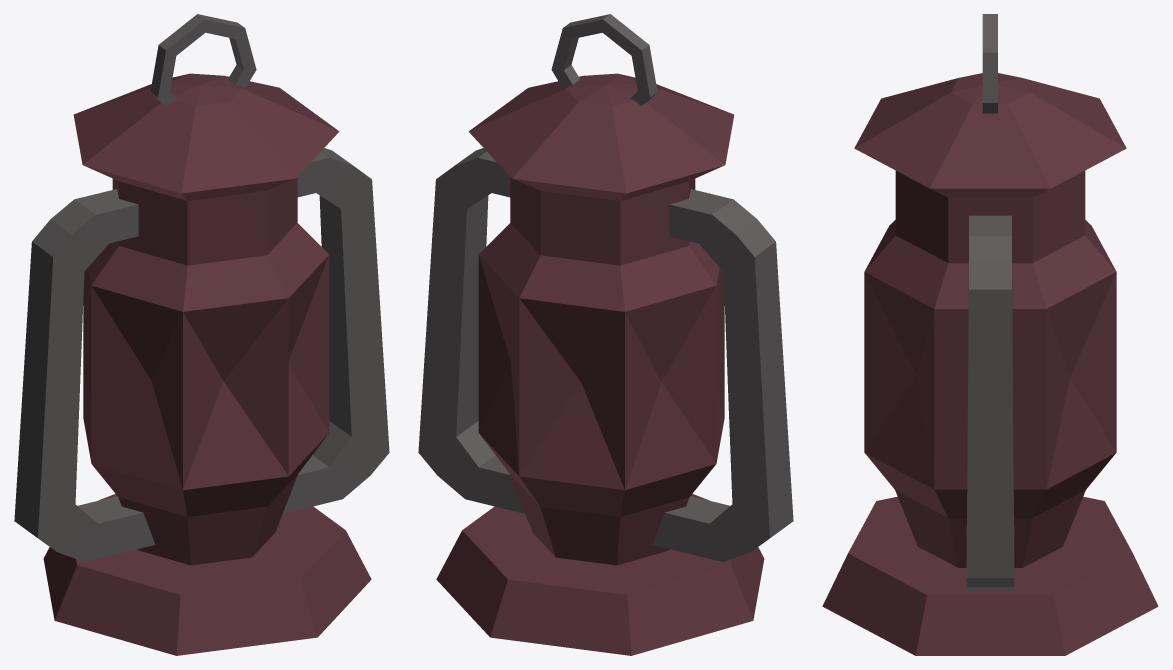
Rendered from lantern-camp.fbx.
3 views of the same model, side by side, from view 1: azimuth 30°, elevation 25°; view 2: azimuth 150°, elevation 25°; view 3: azimuth 270°, elevation 25° (orthographic).
Visible parts, largest first — view 1: lantern-camp; view 2: lantern-camp; view 3: lantern-camp.
Part boxes in pixels (left/top/right/bottom): lantern-camp: left=14, top=14, right=389, bottom=655; lantern-camp: left=418, top=14, right=793, bottom=655; lantern-camp: left=822, top=14, right=1158, bottom=655.
Size of the model in its own units: 0.2538 by 0.392 by 0.2075.
